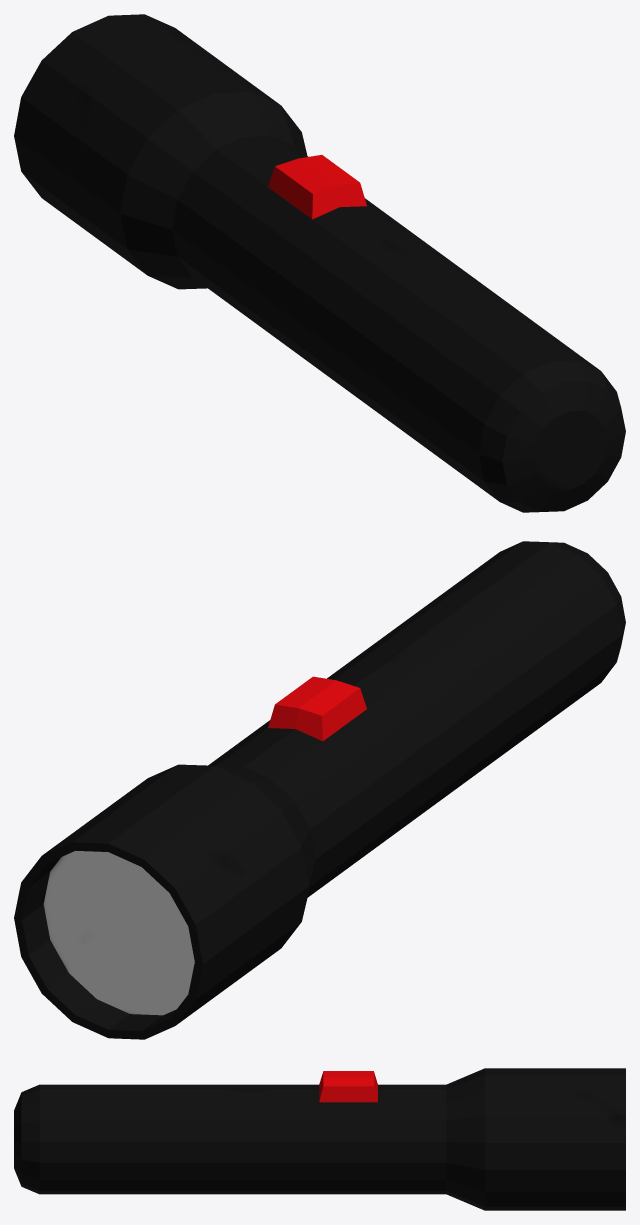
The model's file is lanterna.fbx.
The picture shows the model from 3 angles, top to bottom: view 1: azimuth 30°, elevation 25°; view 2: azimuth 150°, elevation 25°; view 3: azimuth 270°, elevation 25°; orthographic projection. The views are drawn at different scales.
Visible parts, largest first — view 1: Cylinder; view 2: Cylinder; view 3: Cylinder.
Part boxes in pixels (box(x1,y1,x2,y2)): Cylinder: box(14, 14, 625, 512); Cylinder: box(14, 541, 625, 1039); Cylinder: box(14, 1068, 625, 1210).
Size of the model in its own units: 263 by 259 by 1114.
